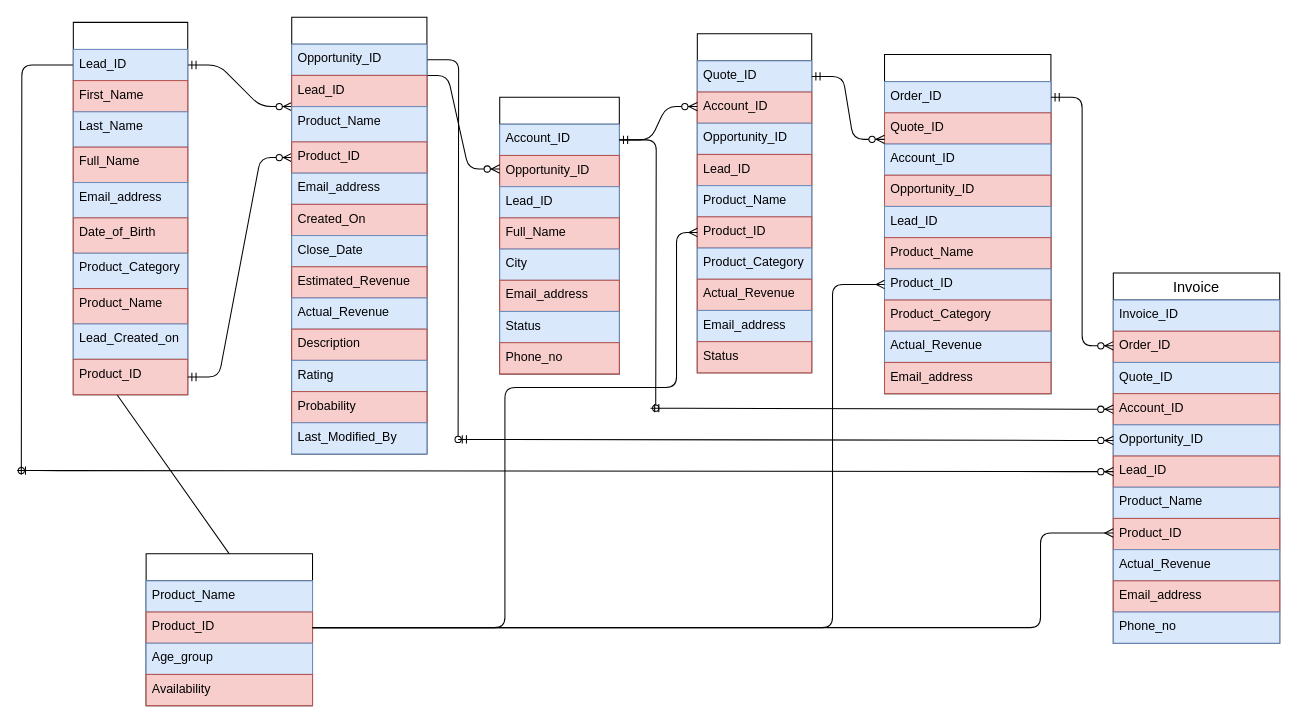
The diagram is 1297 pixels wide and 723 high, and some of its shapes have lost their labels. Here are the shapes that lost their labels. From the top down, the box of each, then its label:
(72, 21, 188, 395): Leads
(696, 33, 812, 373): Quotes
(291, 16, 427, 454): Opportunities
(499, 96, 619, 374): Accounts
(883, 54, 1051, 394): Orders
(145, 553, 313, 706): Products
